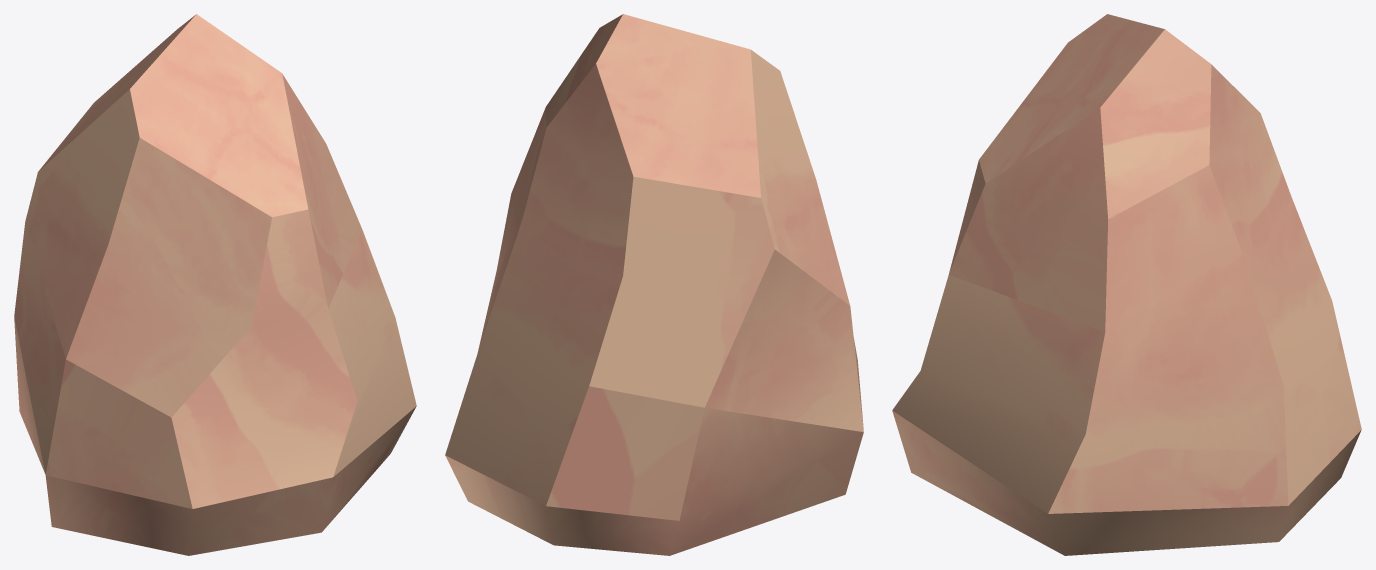
The model's file is ROK0110031.fbx.
The picture shows the model from 3 angles, left to right: view 1: azimuth 30°, elevation 25°; view 2: azimuth 150°, elevation 25°; view 3: azimuth 270°, elevation 25°; orthographic projection. The views are drawn at different scales.
Parts seen in each view (by area): view 1: smROK0110031; view 2: smROK0110031; view 3: smROK0110031.
Part boxes in pixels (x1,y1,x2,y2): smROK0110031: [14, 14, 416, 555]; smROK0110031: [445, 14, 863, 555]; smROK0110031: [892, 14, 1361, 555].
Size of the model in its own units: 76.1 by 93.78 by 84.61.
1 material, 1 textured.
